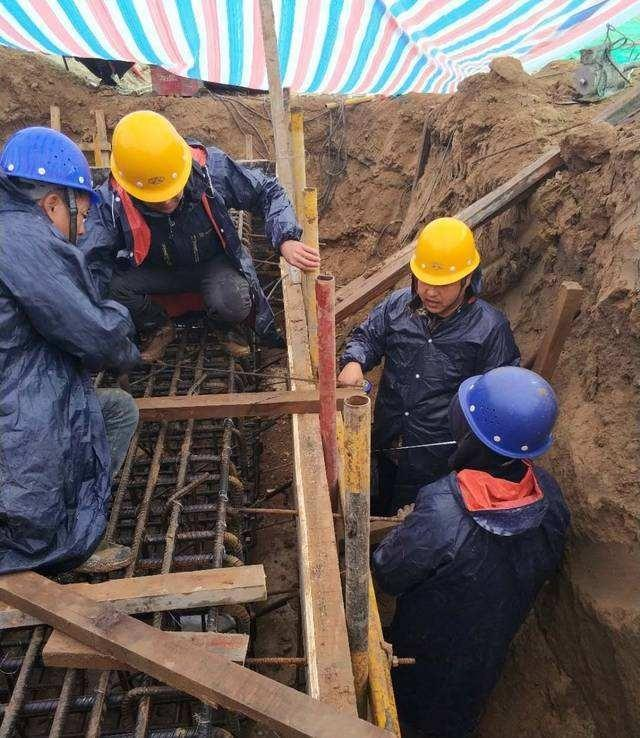helmet: (448, 359, 562, 464), (98, 114, 200, 210), (3, 119, 103, 209), (408, 214, 490, 289)
